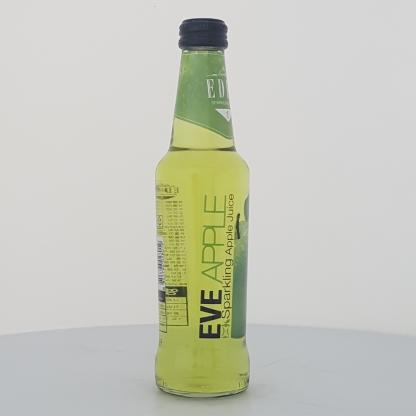----------------: (153, 17, 250, 398)
